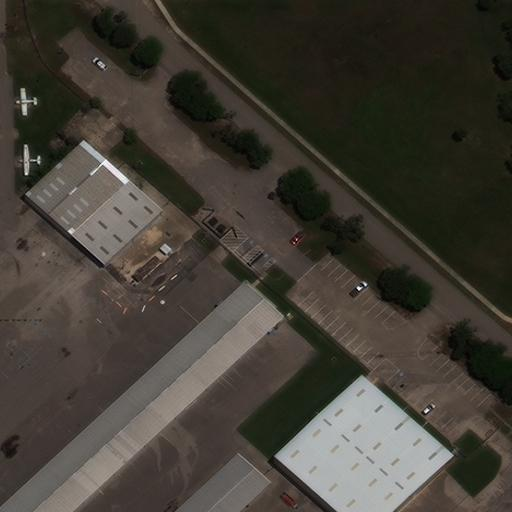Small Civil Transport: (17, 145, 40, 175), (15, 89, 37, 115)
